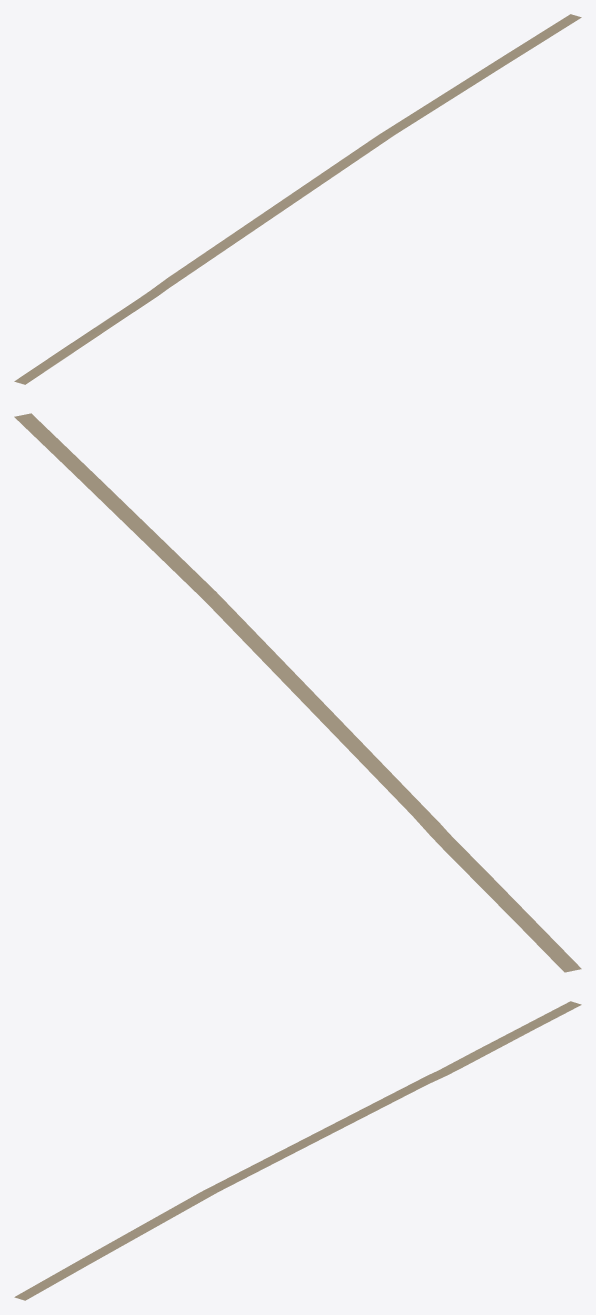
Rendered from farm_-30_-21_track.glb.
3 renders of one model, top to bottom at view 1: azimuth 90°, elevation 25°; view 2: azimuth 150°, elevation 25°; view 3: azimuth 270°, elevation 25°, orthographic. The views are drawn at different scales.
Parts seen in each view (by area): view 1: geometry_0; view 2: geometry_0; view 3: geometry_0.
Part boxes in pixels (x1,y1,x2,y2): geometry_0: [14, 14, 581, 384]; geometry_0: [14, 413, 581, 972]; geometry_0: [14, 1001, 581, 1300].
Bounding box in the file's own units: 187 × 9.31 × 134.
